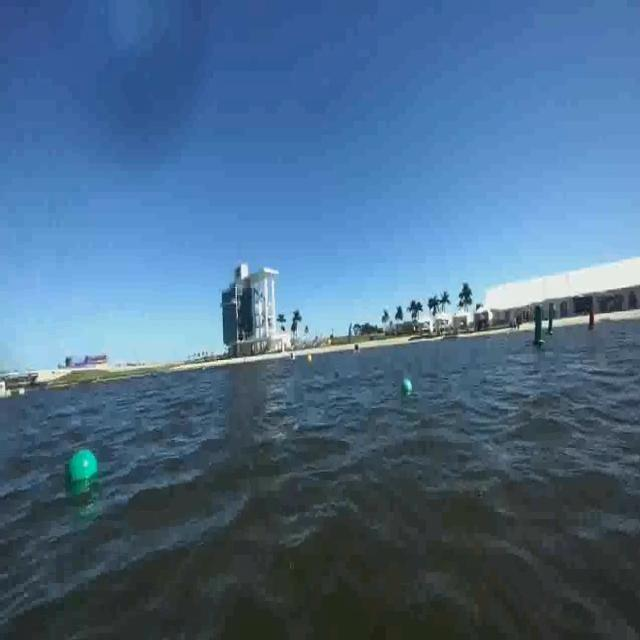green-buoy: (68, 448, 101, 484), (401, 382, 408, 393)
green-column-buoy: (531, 304, 545, 347), (545, 304, 555, 336)
yellow-buoy: (308, 353, 313, 365)
